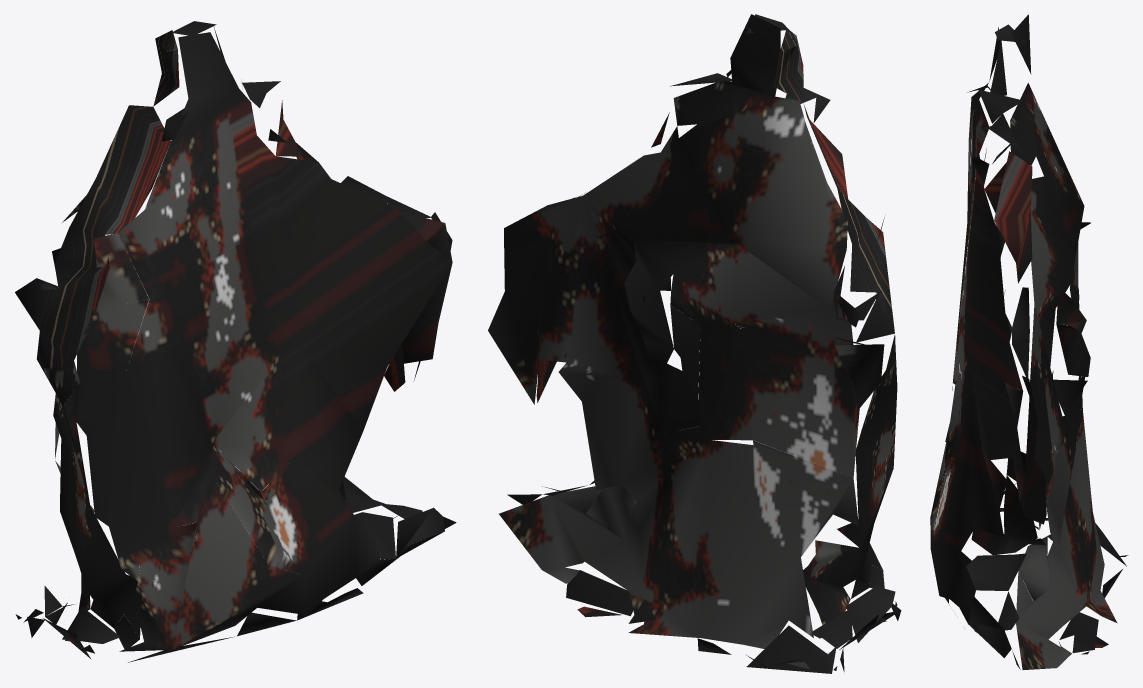
3 renders of one model, left to right at view 1: azimuth 30°, elevation 25°; view 2: azimuth 150°, elevation 25°; view 3: azimuth 270°, elevation 25°, orthographic. The views are drawn at different scales.
Visible parts, largest first — view 1: body.002; view 2: body.002; view 3: body.002.
Part boxes in pixels (x1,y1,x2,y2): body.002: (15,21,456,662); body.002: (488,14,901,673); body.002: (930,14,1128,669).
Bounding box in the file's own units: 1.42 × 2.04 × 0.6381.
1 material, 1 textured.
